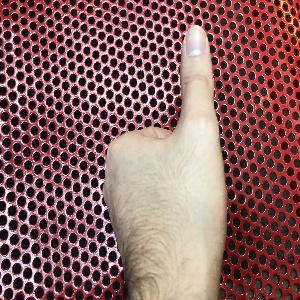hand: (103, 26, 225, 292)
